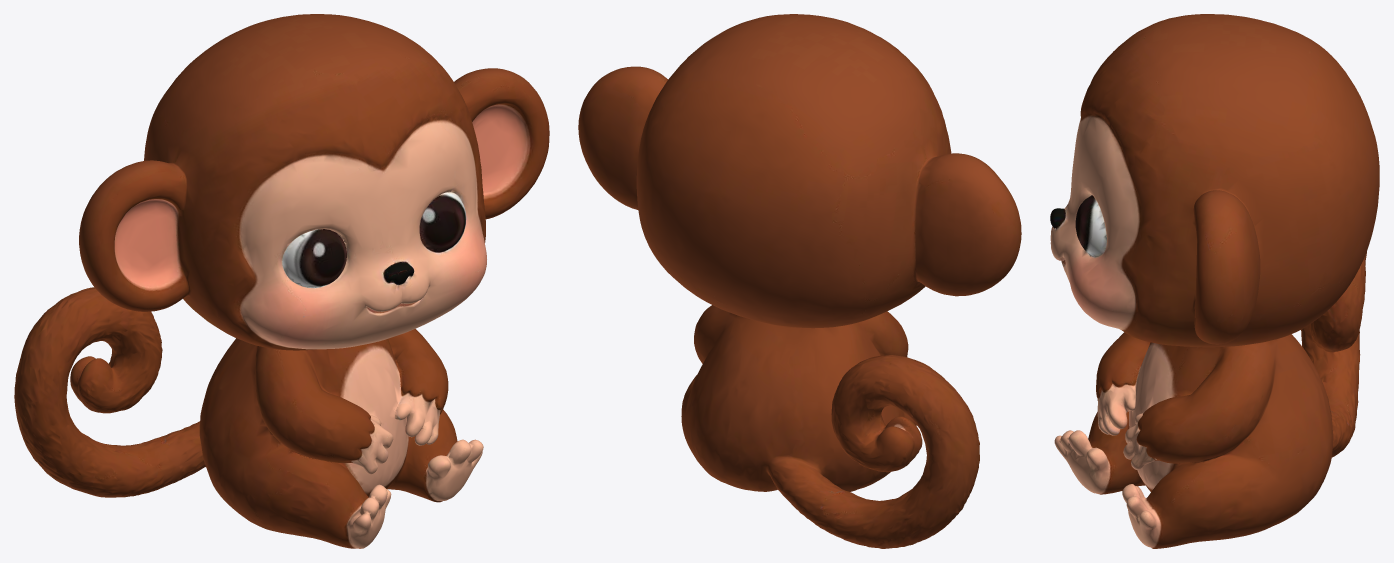
Rendered from opicka.glb.
3 views of the same model, side by side, from view 1: azimuth 30°, elevation 25°; view 2: azimuth 150°, elevation 25°; view 3: azimuth 270°, elevation 25° (orthographic). The views are drawn at different scales.
Size of the model in its own units: 1.9 by 1.79 by 1.15.
Materials: 1 (1 with a texture image).
